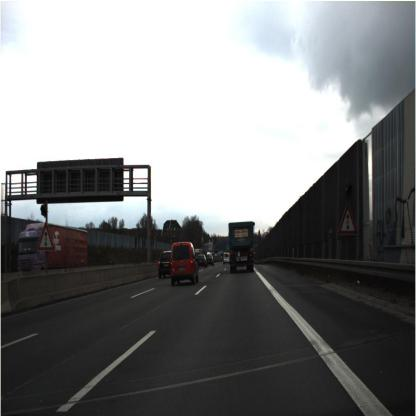danger: (34, 221, 57, 257), (337, 202, 358, 240)
